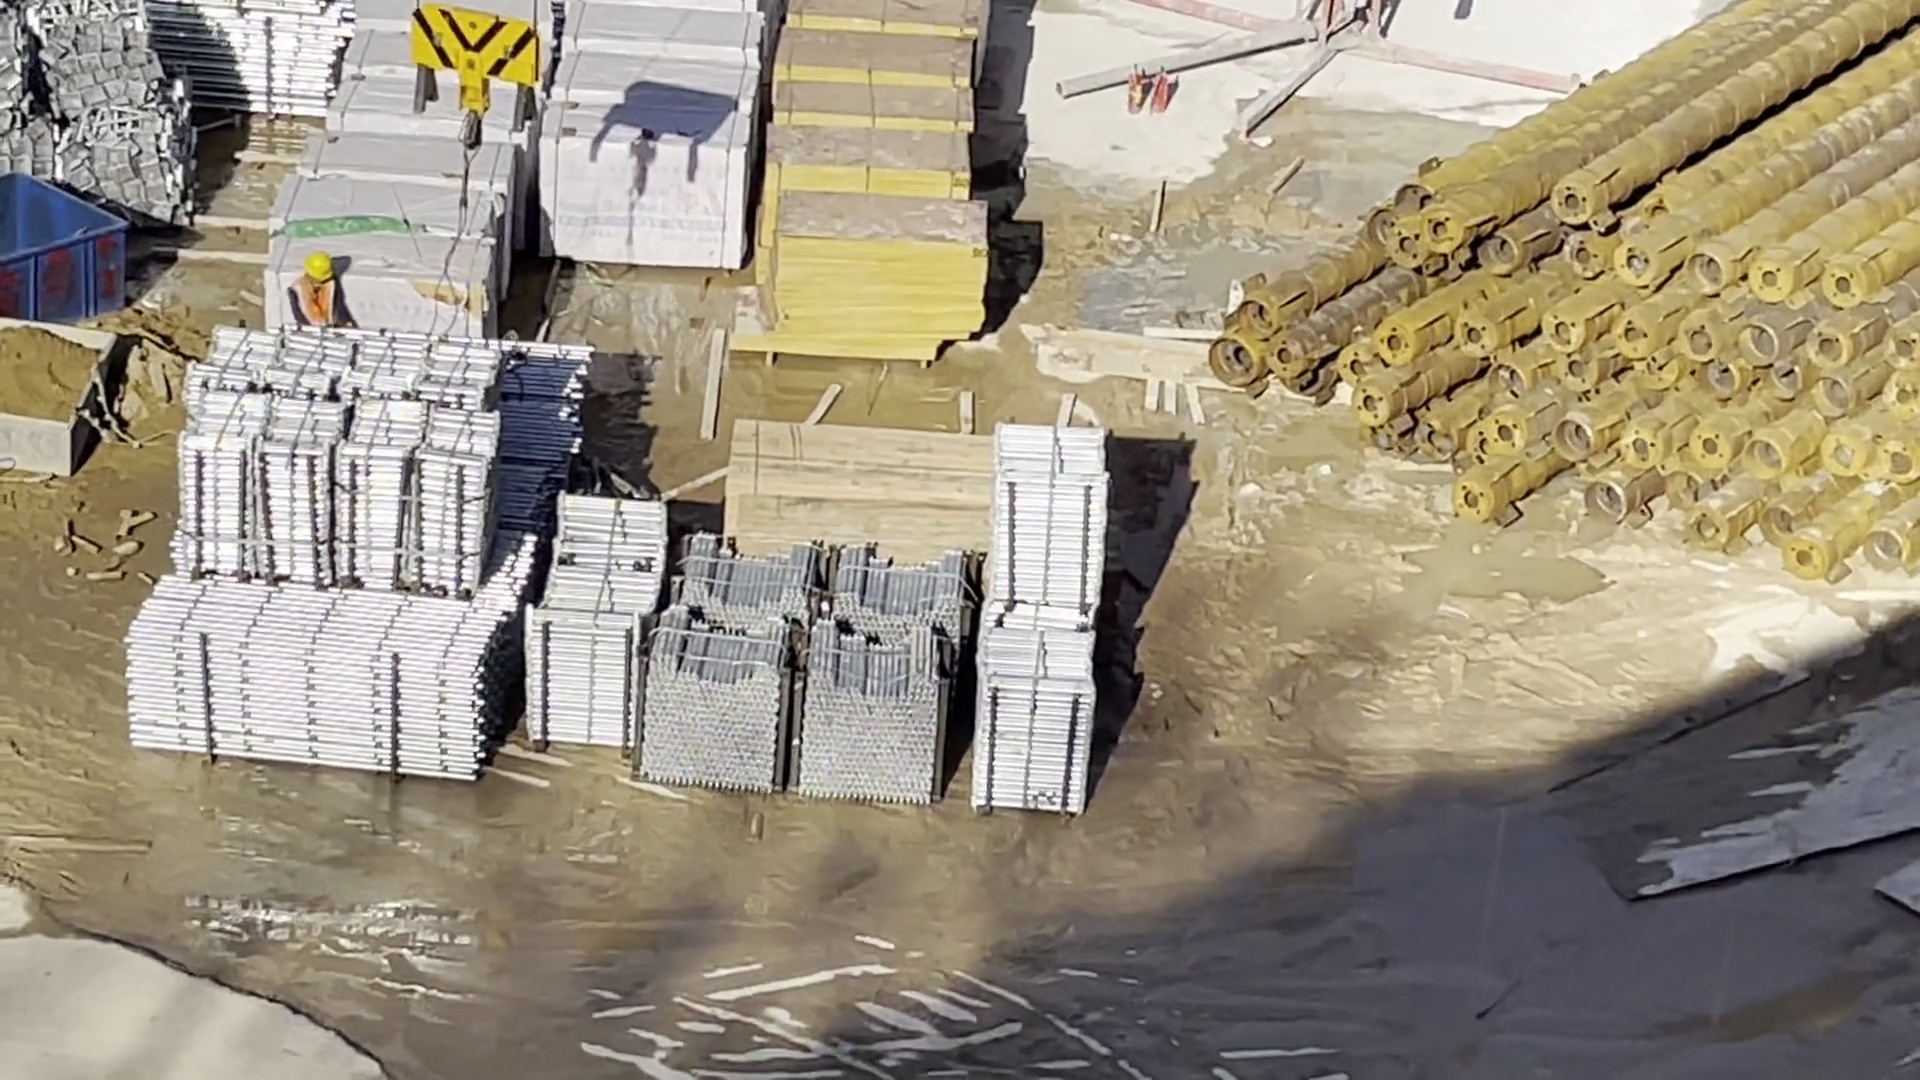helmet: (289, 247, 338, 285)
hook: (412, 1, 561, 150)
hopper: (4, 168, 135, 341), (1, 321, 108, 464)
person: (292, 251, 369, 354)
scaffold: (190, 333, 637, 757), (685, 523, 946, 806), (982, 401, 1093, 838)
vest: (295, 291, 361, 330)
